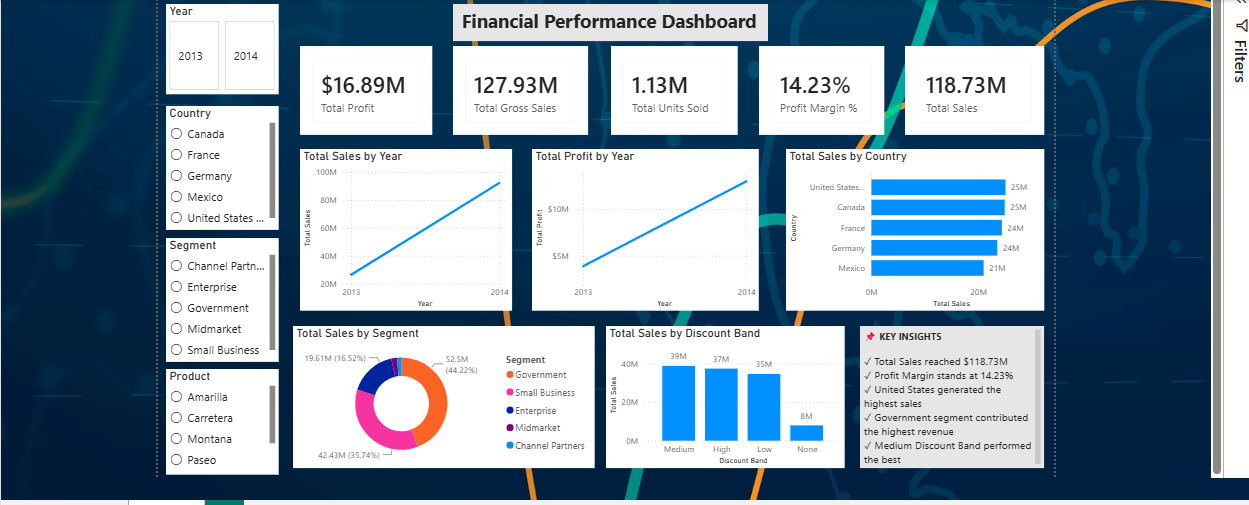

This screenshot's page, from the dashboard's own definition file:
{"tool":"powerbi","page":{"name":"Page 1","canvas":[1280,720],"ordinal":0},"visuals":[{"type":"cardVisual","fields":{"Data":["financials.Total Sales"]},"box":[1067.1,97.1,198.6,127.1],"z":0},{"type":"cardVisual","fields":{"Data":["financials.Total Profit"]},"box":[202.9,97.1,188.6,127.1],"z":1000},{"type":"cardVisual","fields":{"Data":["financials.Total Gross Sales"]},"box":[421.4,97.1,192.9,127.1],"z":2000},{"type":"cardVisual","fields":{"Data":["financials.Total Units Sold"]},"box":[647.1,97.1,181.4,127.1],"z":3000},{"type":"cardVisual","fields":{"Data":["financials.Profit Margin %"]},"box":[858.6,97.1,178.6,127.1],"z":4000},{"type":"advancedSlicerVisual","fields":{"Values":["financials.Year"]},"box":[11.4,37.1,161.4,128.6],"z":5000},{"type":"listSlicer","fields":{"Values":["financials.Country"]},"box":[11.4,182.9,161.4,177.1],"z":6000},{"type":"listSlicer","fields":{"Values":["financials.Segment"]},"box":[11.4,371.4,161.4,177.1],"z":7000},{"type":"listSlicer","fields":{"Values":["financials.Product"]},"box":[11.4,558.6,161.4,151.4],"z":8000},{"type":"lineChart","fields":{"Category":["financials.Date.Variation.Date Hierarchy.Year"],"Y":["financials.Total Sales"]},"box":[202.9,244.3,302.9,231.4],"z":9000},{"type":"lineChart","fields":{"Category":["financials.Date.Variation.Date Hierarchy.Year","financials.Date.Variation.Date Hierarchy.Quarter","financials.Date.Variation.Date Hierarchy.Month","financials.Date.Variation.Date Hierarchy.Day"],"Y":["financials.Total Profit"]},"box":[534.3,244.3,324.3,231.4],"z":10000},{"type":"clusteredBarChart","fields":{"Category":["financials.Country"],"Y":["financials.Total Sales"]},"box":[897.1,244.3,368.6,231.4],"z":11000},{"type":"donutChart","fields":{"Category":["financials.Segment"],"Y":["financials.Total Sales"]},"box":[192.9,497.1,431.4,202.9],"z":12000},{"type":"columnChart","fields":{"Category":["financials.Discount Band"],"Y":["financials.Total Sales"]},"box":[640,497.1,341.4,202.9],"z":13000},{"type":"textbox","box":[1002.9,497.1,262.9,202.9],"z":14000},{"type":"textbox","box":[421.4,37.1,450,52.9],"z":14001}]}

Visuals, with their boxes in screenshot pixels (x1, y1, x2, y2):
cardVisual - financials.Total Sales: 896,44,1033,132
cardVisual - financials.Total Profit: 299,44,430,132
cardVisual - financials.Total Gross Sales: 450,44,584,132
cardVisual - financials.Total Units Sold: 606,44,731,132
cardVisual - financials.Profit Margin %: 752,44,876,132
advancedSlicerVisual - financials.Year: 167,3,279,92
listSlicer - financials.Country: 167,104,279,226
listSlicer - financials.Segment: 167,234,279,356
listSlicer - financials.Product: 167,363,279,468
lineChart - financials.Date.Variation.Date Hierarchy.Year x financials.Total Sales: 299,146,509,306
lineChart - financials.Date.Variation.Date Hierarchy.Year x financials.Date.Variation.Date Hierarchy.Quarter: 528,146,752,306
clusteredBarChart - financials.Country x financials.Total Sales: 779,146,1033,306
donutChart - financials.Segment x financials.Total Sales: 293,320,590,461
columnChart - financials.Discount Band x financials.Total Sales: 601,320,837,461
textbox: 852,320,1033,461
textbox: 450,3,761,39
